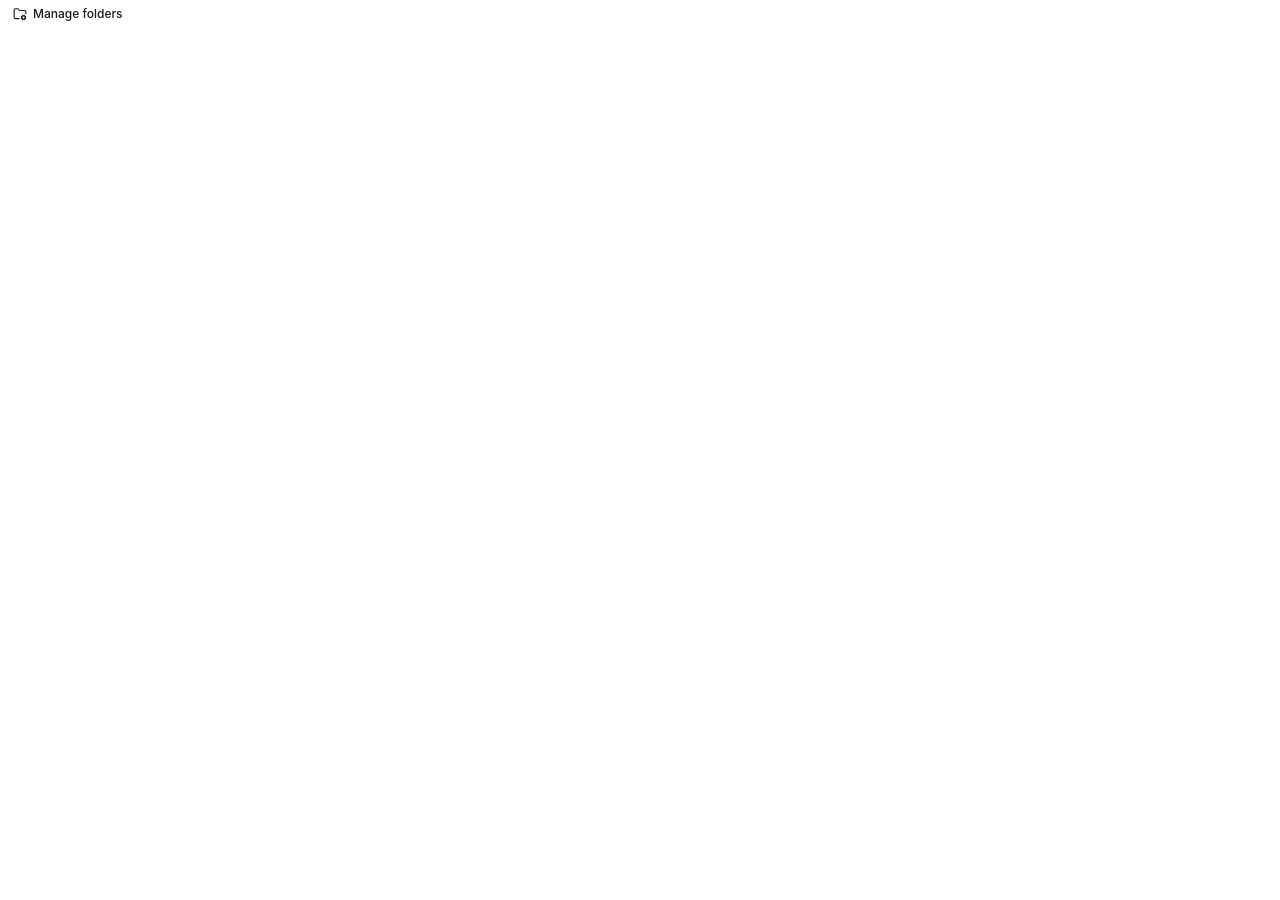
Test: folder management › keeps the dialog and server error visible when creation fails
Click the button "Manage folders" at (68, 14), box [0, 0, 136, 28]
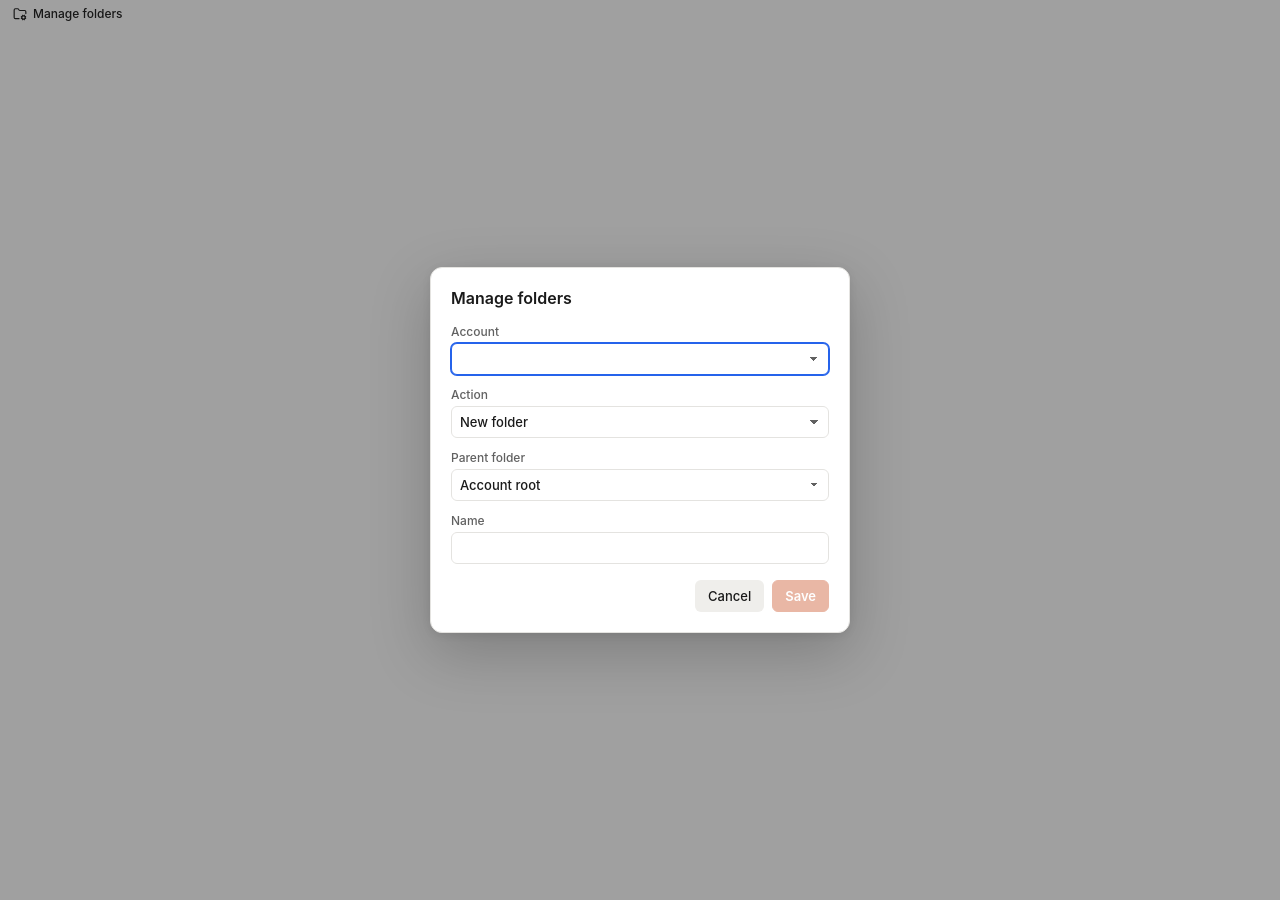
Type "New" into the field labelled "Name" at (640, 548), box [451, 532, 829, 564]
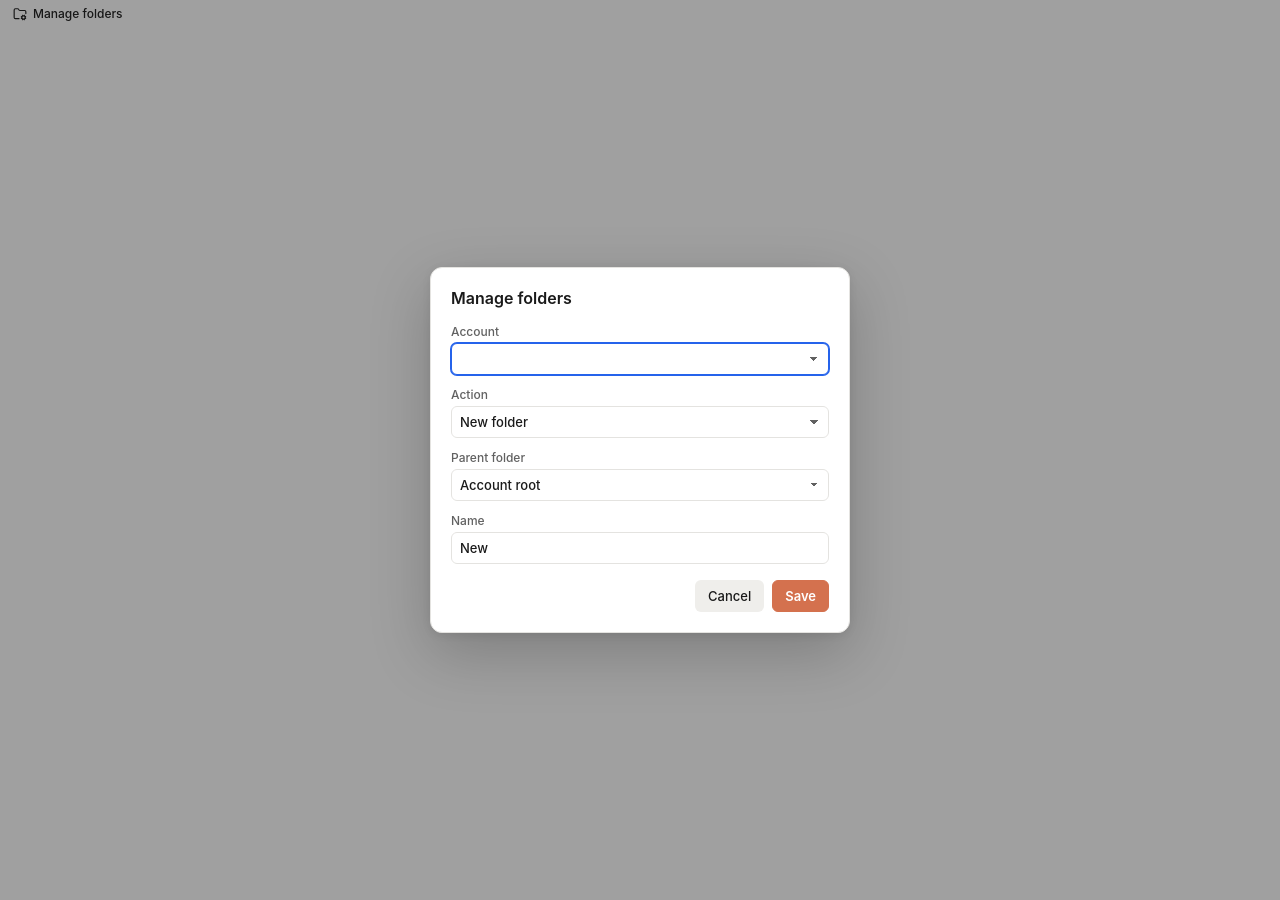
Click the button "Save" at (801, 596), box [772, 580, 829, 612]
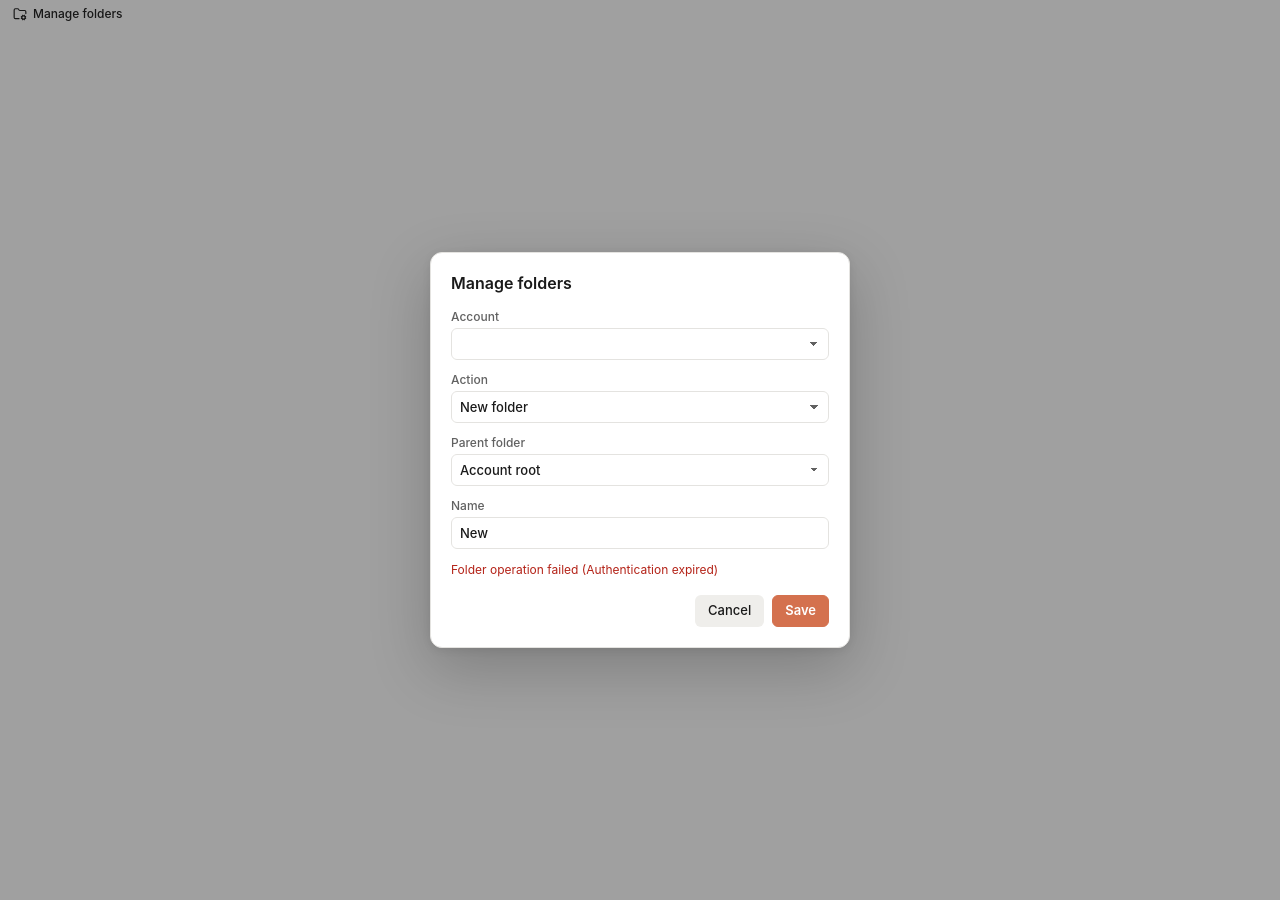
Check: the dialog is shown, box [430, 252, 850, 648]
Check: the message shows "Authentication expired", box [451, 562, 718, 577]
